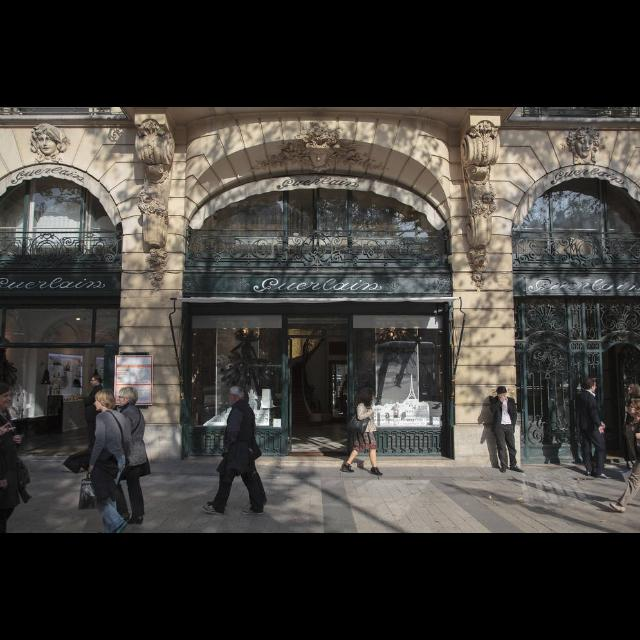head: (94, 390, 116, 412), (118, 387, 140, 408), (228, 386, 246, 406), (228, 387, 244, 407), (0, 384, 12, 410), (582, 376, 598, 394), (584, 379, 596, 393), (90, 376, 102, 388), (498, 387, 508, 401), (361, 392, 372, 402)
person: (200, 384, 270, 518), (206, 388, 268, 509), (106, 387, 152, 528), (572, 376, 614, 480), (338, 388, 384, 478), (488, 386, 526, 474), (576, 376, 608, 470), (81, 374, 107, 452)
